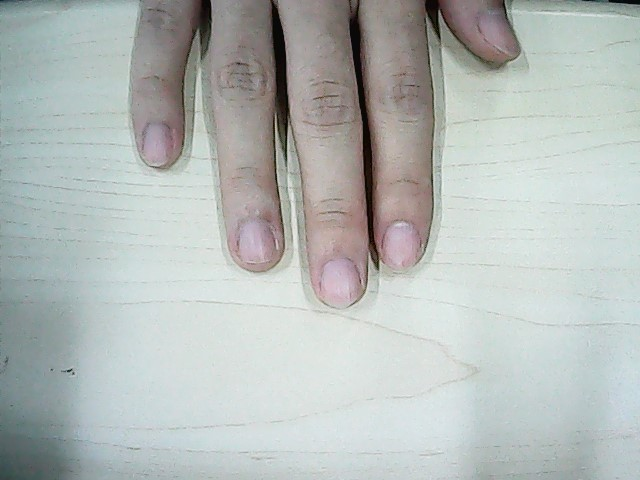nail: (474, 8, 522, 66), (315, 253, 365, 308), (234, 215, 278, 270), (377, 218, 422, 264), (136, 119, 175, 165)
